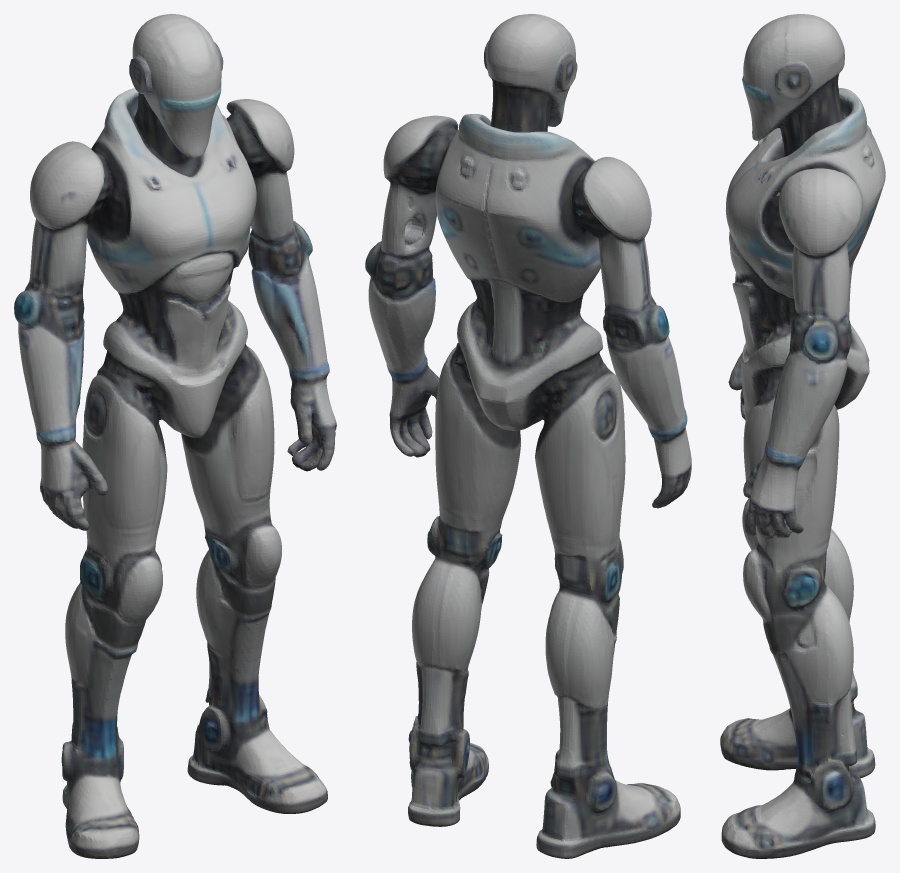
3 views of the same model, side by side, from view 1: azimuth 30°, elevation 25°; view 2: azimuth 150°, elevation 25°; view 3: azimuth 270°, elevation 25° (orthographic). The views are drawn at different scales.
Visible parts, largest first — view 1: geometry_0; view 2: geometry_0; view 3: geometry_0.
Boxes of the visible parts, x1,y1,x2,y2 form: geometry_0: [14, 14, 336, 858]; geometry_0: [365, 14, 691, 858]; geometry_0: [720, 14, 885, 858].
Bounding box in the file's own units: 0.3864 × 0.9985 × 0.1915.
